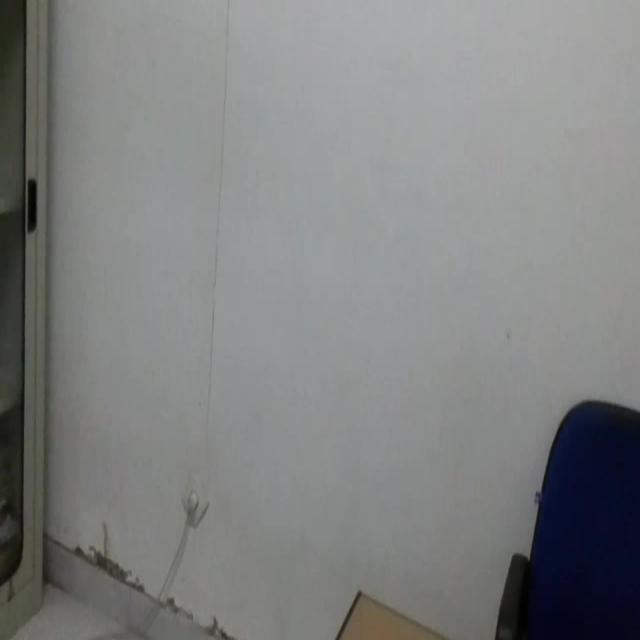Crack: (194, 0, 236, 462)
